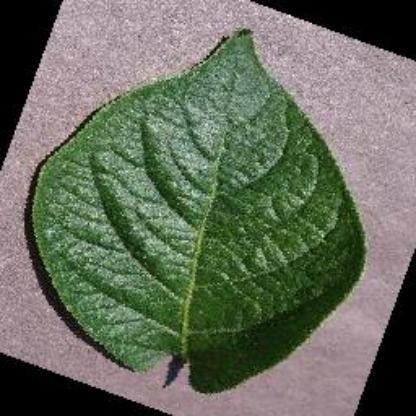Healthy-plant: (21, 26, 377, 398)
